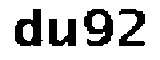2: (117, 4, 147, 50)
9: (79, 4, 116, 50)
d: (11, 4, 45, 53)
u: (45, 14, 81, 54)
